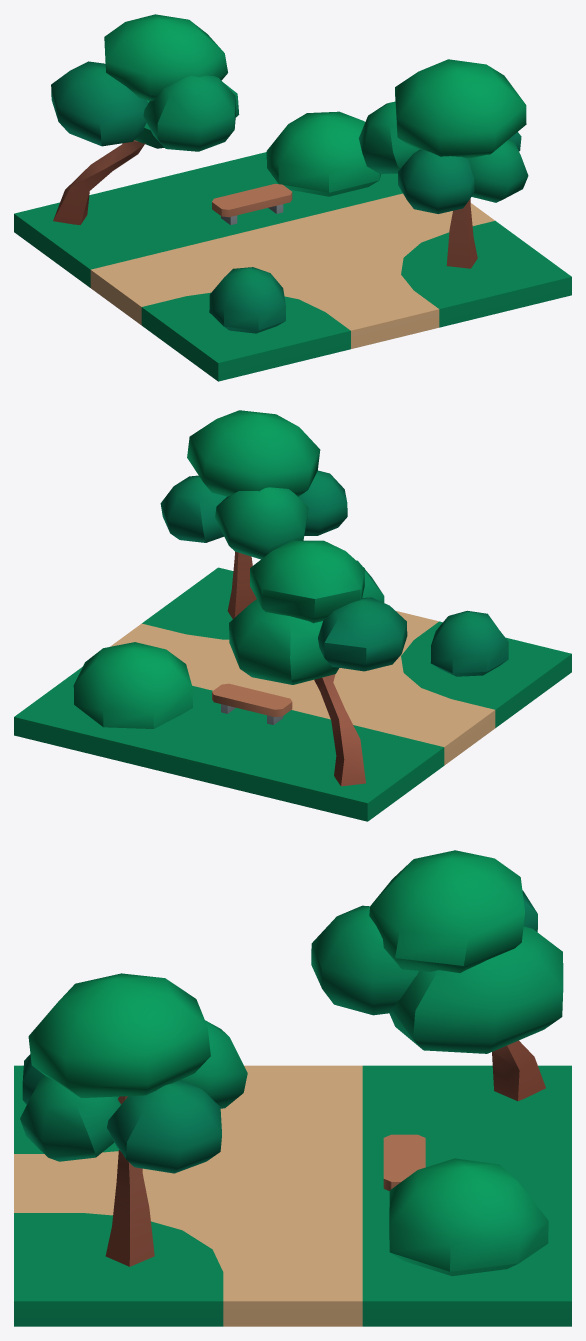
The model's file is park_road_tsplit_decorated.glb.
3 renders of one model, top to bottom at view 1: azimuth 30°, elevation 25°; view 2: azimuth 150°, elevation 25°; view 3: azimuth 270°, elevation 25°, orthographic. The views are drawn at different scales.
Visible parts, largest first — view 1: park_road_tsplit_decorated; view 2: park_road_tsplit_decorated; view 3: park_road_tsplit_decorated.
Boxes of the visible parts, x1,y1,x2,y2 form: park_road_tsplit_decorated: [14, 14, 571, 381]; park_road_tsplit_decorated: [14, 410, 571, 821]; park_road_tsplit_decorated: [14, 850, 571, 1326].
Bounding box in the file's own units: 2 × 1.19 × 2.
Materials: 1 (1 with a texture image).
